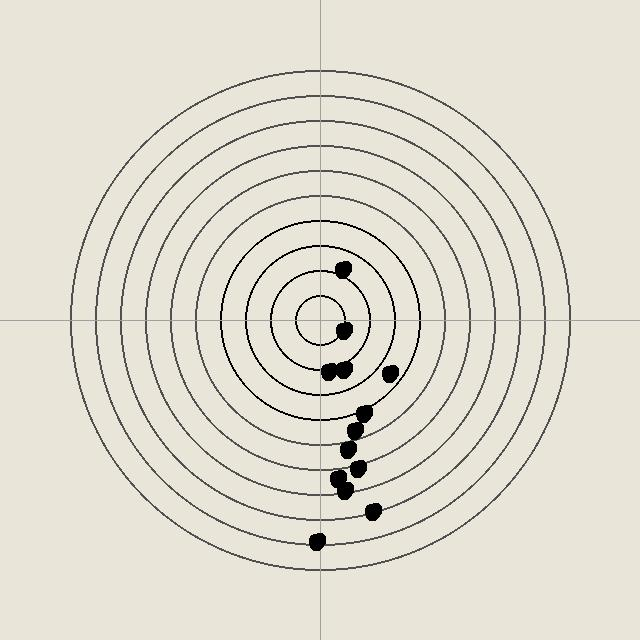vertical_scatter: (344, 420, 364, 440), (333, 359, 353, 379), (353, 403, 373, 423), (327, 468, 347, 488), (337, 439, 357, 459), (347, 458, 367, 478), (332, 259, 352, 279), (318, 361, 338, 381), (379, 363, 399, 383), (306, 531, 326, 551), (334, 480, 354, 500), (362, 501, 382, 521), (333, 320, 353, 340)
